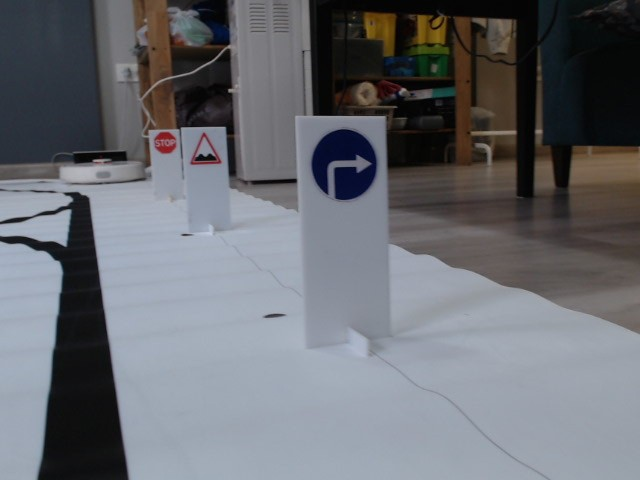Nerov: (189, 132, 222, 166)
Right: (311, 126, 378, 205)
Stop: (152, 130, 177, 155)
